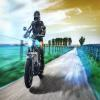motorcycles: (25, 36, 44, 86)
